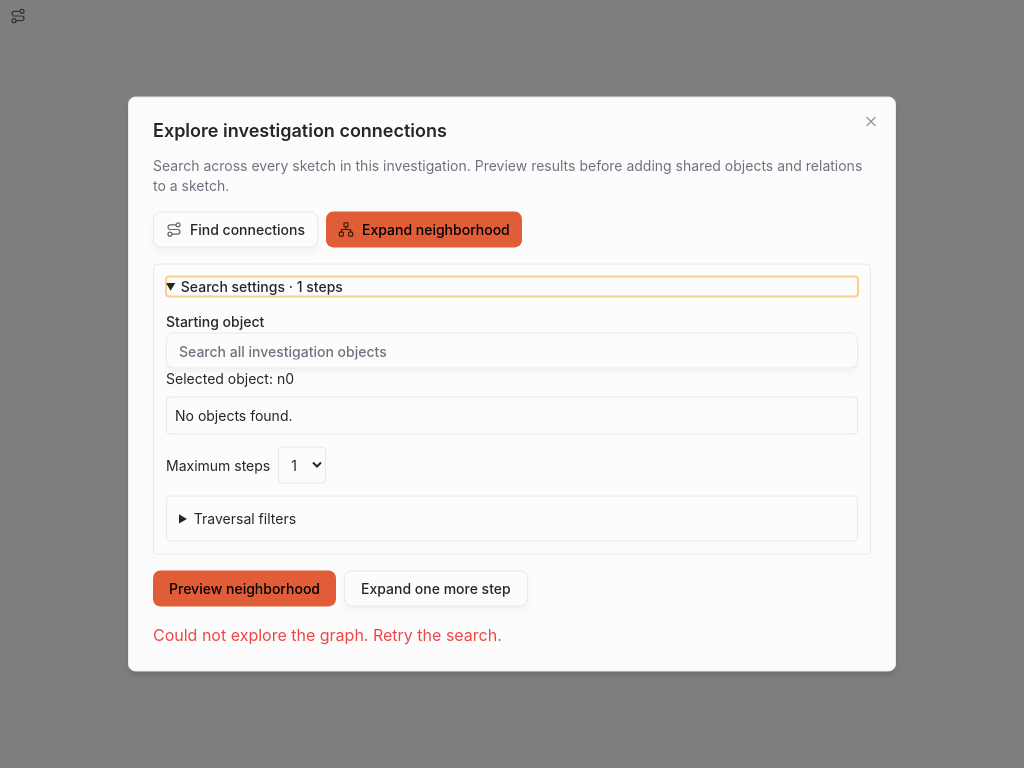
Test: Complete, paged investigation search › retries a failed start with the same inputs
The image size is (1024, 768).
expect the message "Could not explore the graph. Retry the search." is shown: met, box [153, 624, 502, 644]
What coordinates should you click on to do the following:
click the button "Preview neighborhood"
I would click on:
 (244, 588)
Its box is [153, 570, 336, 606].
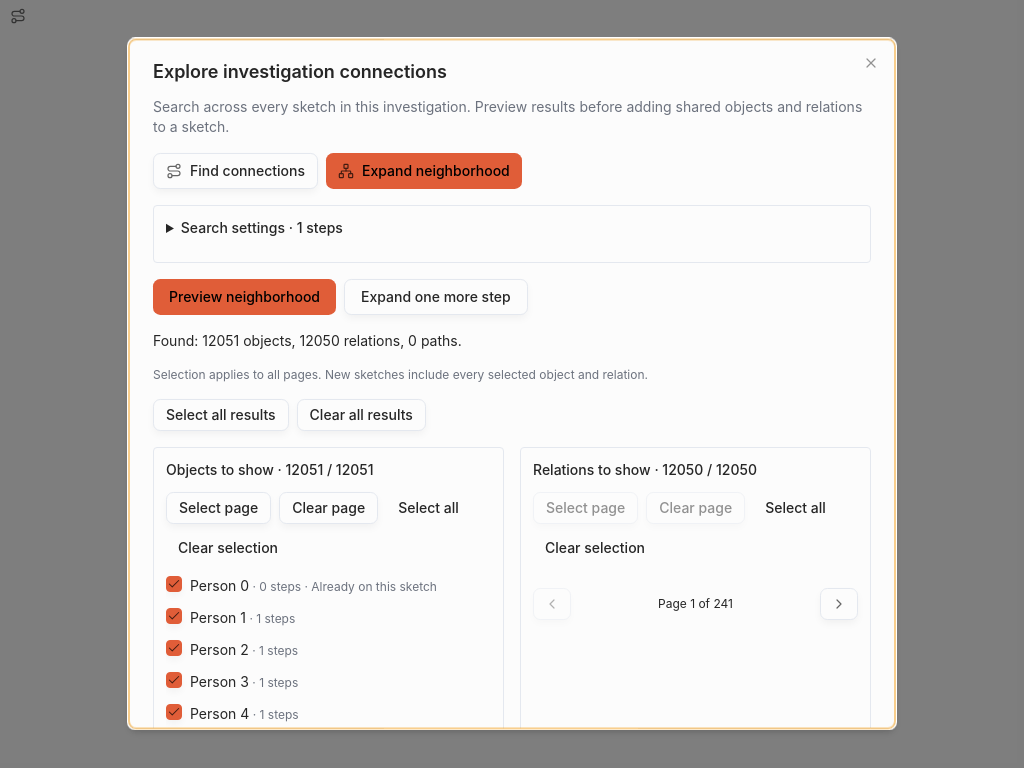
expect the checkbox named "Person 0" is shown: met, box [166, 576, 182, 592]
